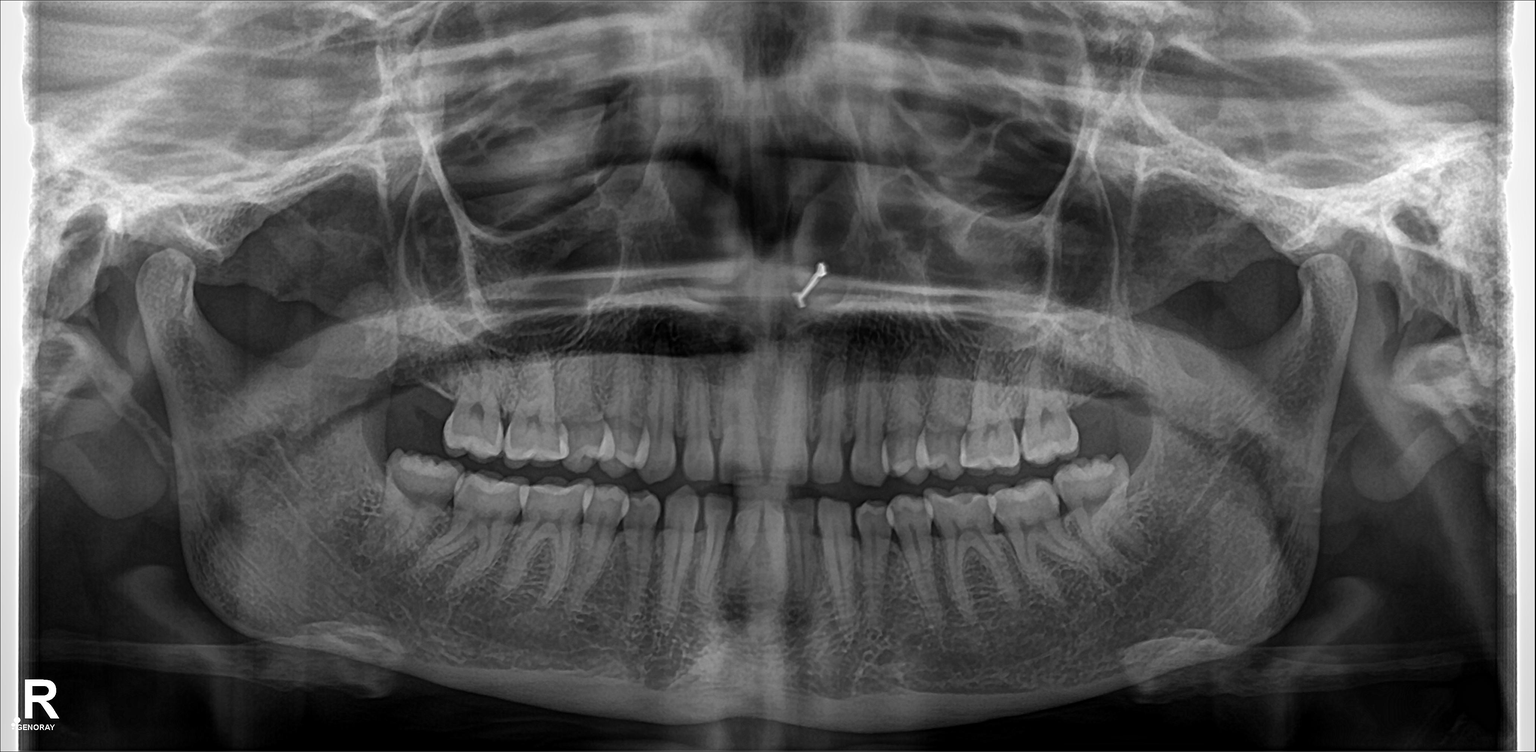Missing Tooth: (1073, 352, 1132, 442), (393, 367, 448, 438)
